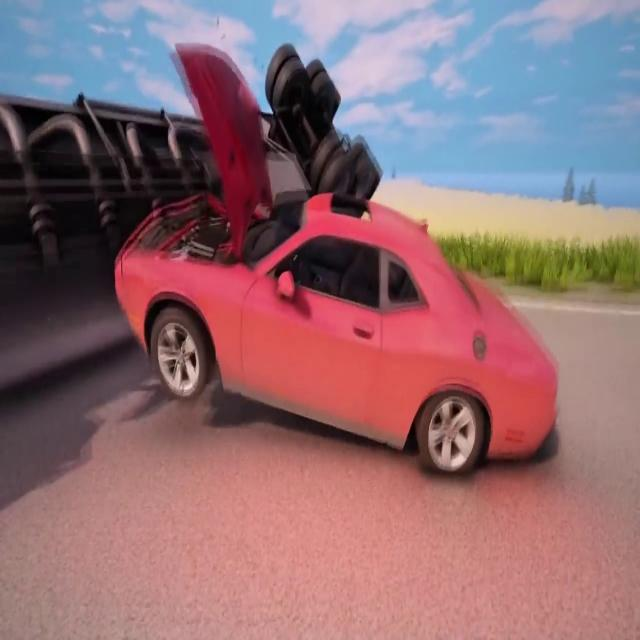accident: (0, 46, 558, 479)
